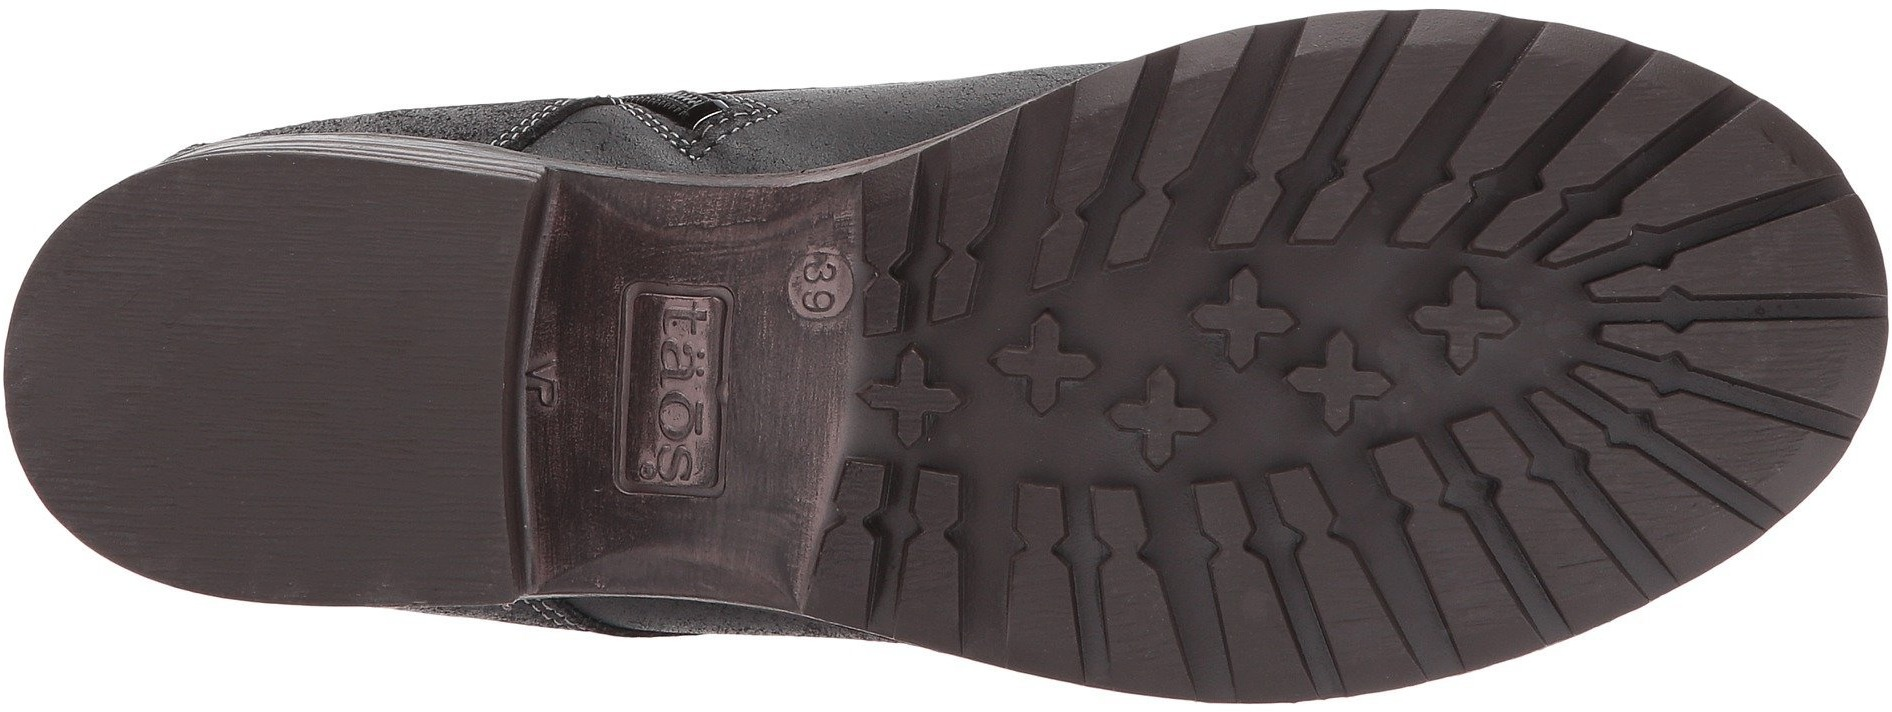bowtie: (1542, 151, 1814, 390), (1240, 34, 1491, 268), (1395, 399, 1601, 621), (916, 459, 1139, 663), (1168, 463, 1376, 682), (1034, 105, 1195, 284)
other: (71, 229, 401, 517)
star: (1193, 272, 1377, 449), (1407, 264, 1523, 378), (995, 313, 1093, 418), (877, 345, 964, 454)
